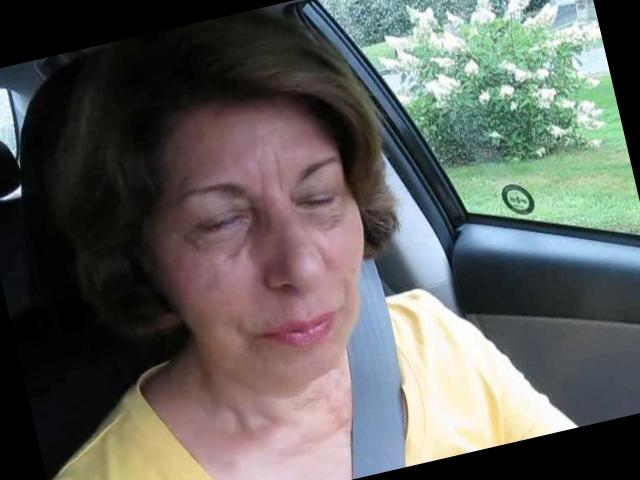eye_closed: (183, 204, 254, 250), (290, 178, 340, 222)
face: (138, 115, 398, 414)
